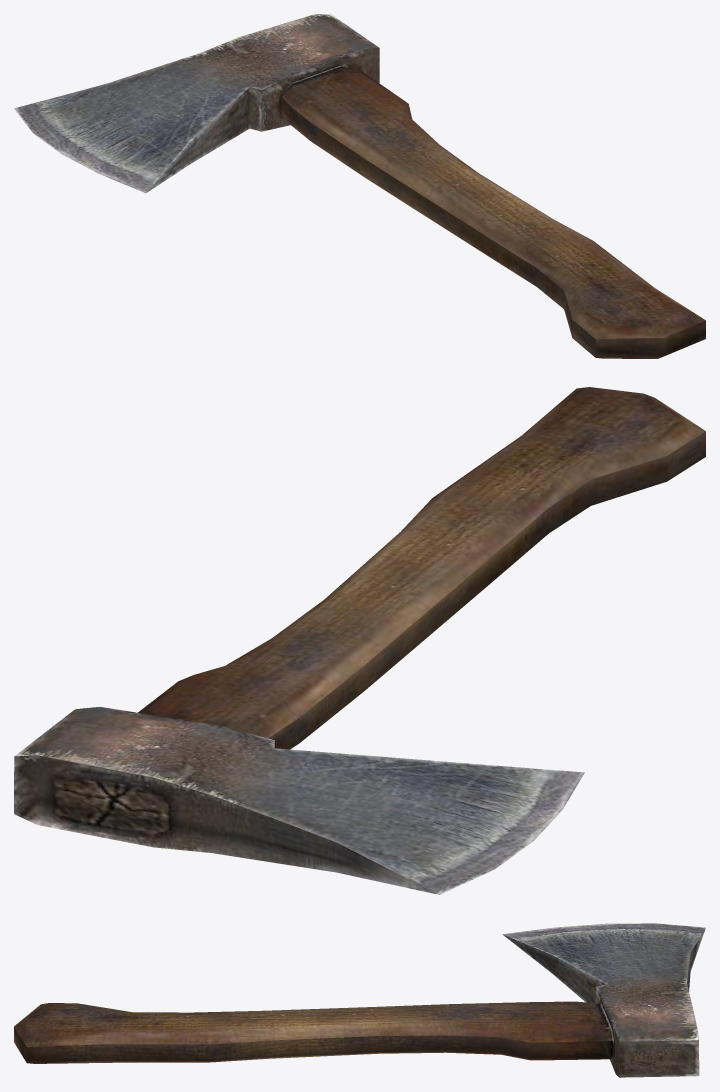
The picture shows the model from 3 angles, top to bottom: view 1: azimuth 30°, elevation 25°; view 2: azimuth 150°, elevation 25°; view 3: azimuth 270°, elevation 25°; orthographic projection. The views are drawn at different scales.
Parts seen in each view (by area): view 1: DrawCall31; view 2: DrawCall31; view 3: DrawCall31.
Part boxes in pixels (x1,y1,x2,y2): DrawCall31: (14,14,705,358); DrawCall31: (14,387,705,894); DrawCall31: (14,923,705,1077).
Size of the model in its own units: 0.7599 by 0.1137 by 1.63.
